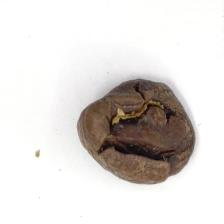NG: (97, 80, 156, 168), (158, 99, 195, 177)
